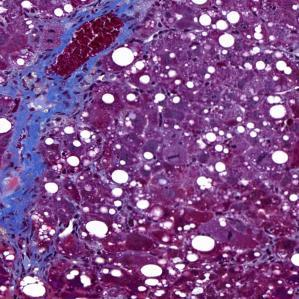fibrosis: (14, 58, 74, 141)
